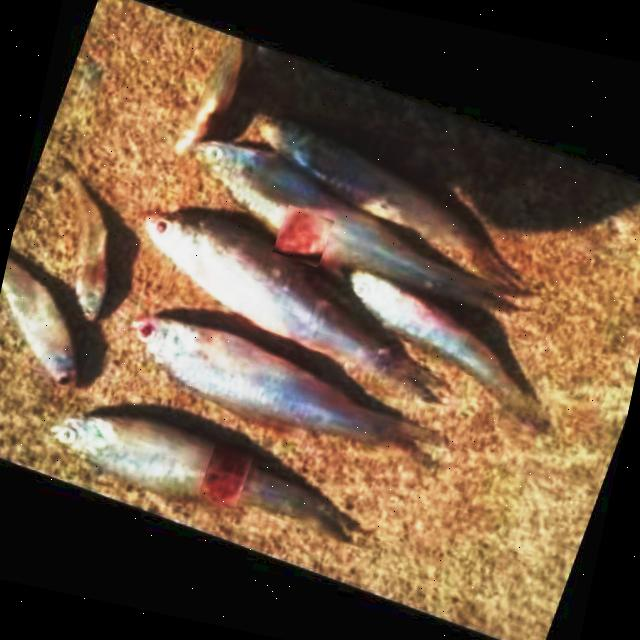Aeromonas Septicemia: (143, 208, 447, 399), (190, 136, 514, 315), (127, 315, 450, 465), (51, 413, 356, 540)
